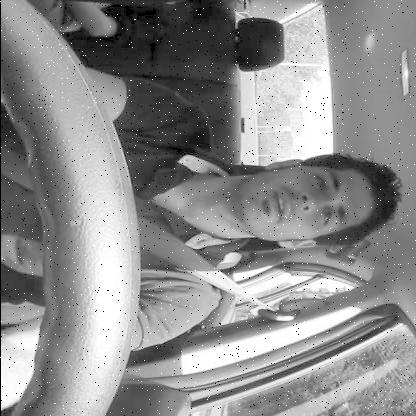seatbelt: (0, 118, 410, 321)
